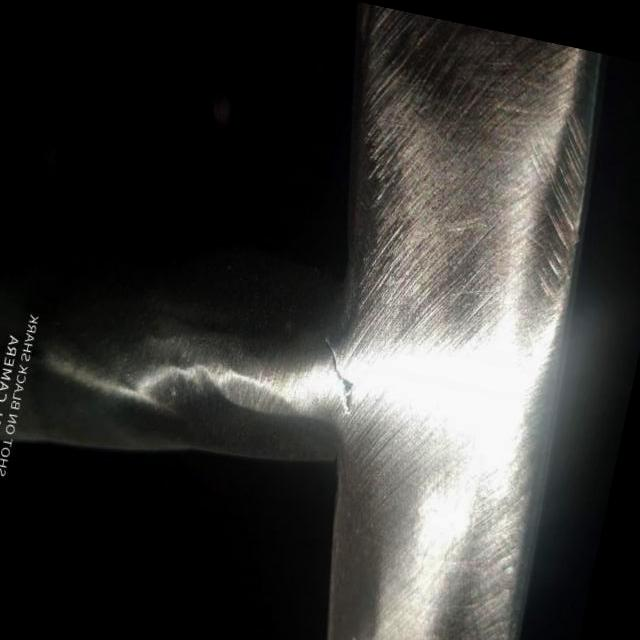defect: (324, 335, 356, 414)
